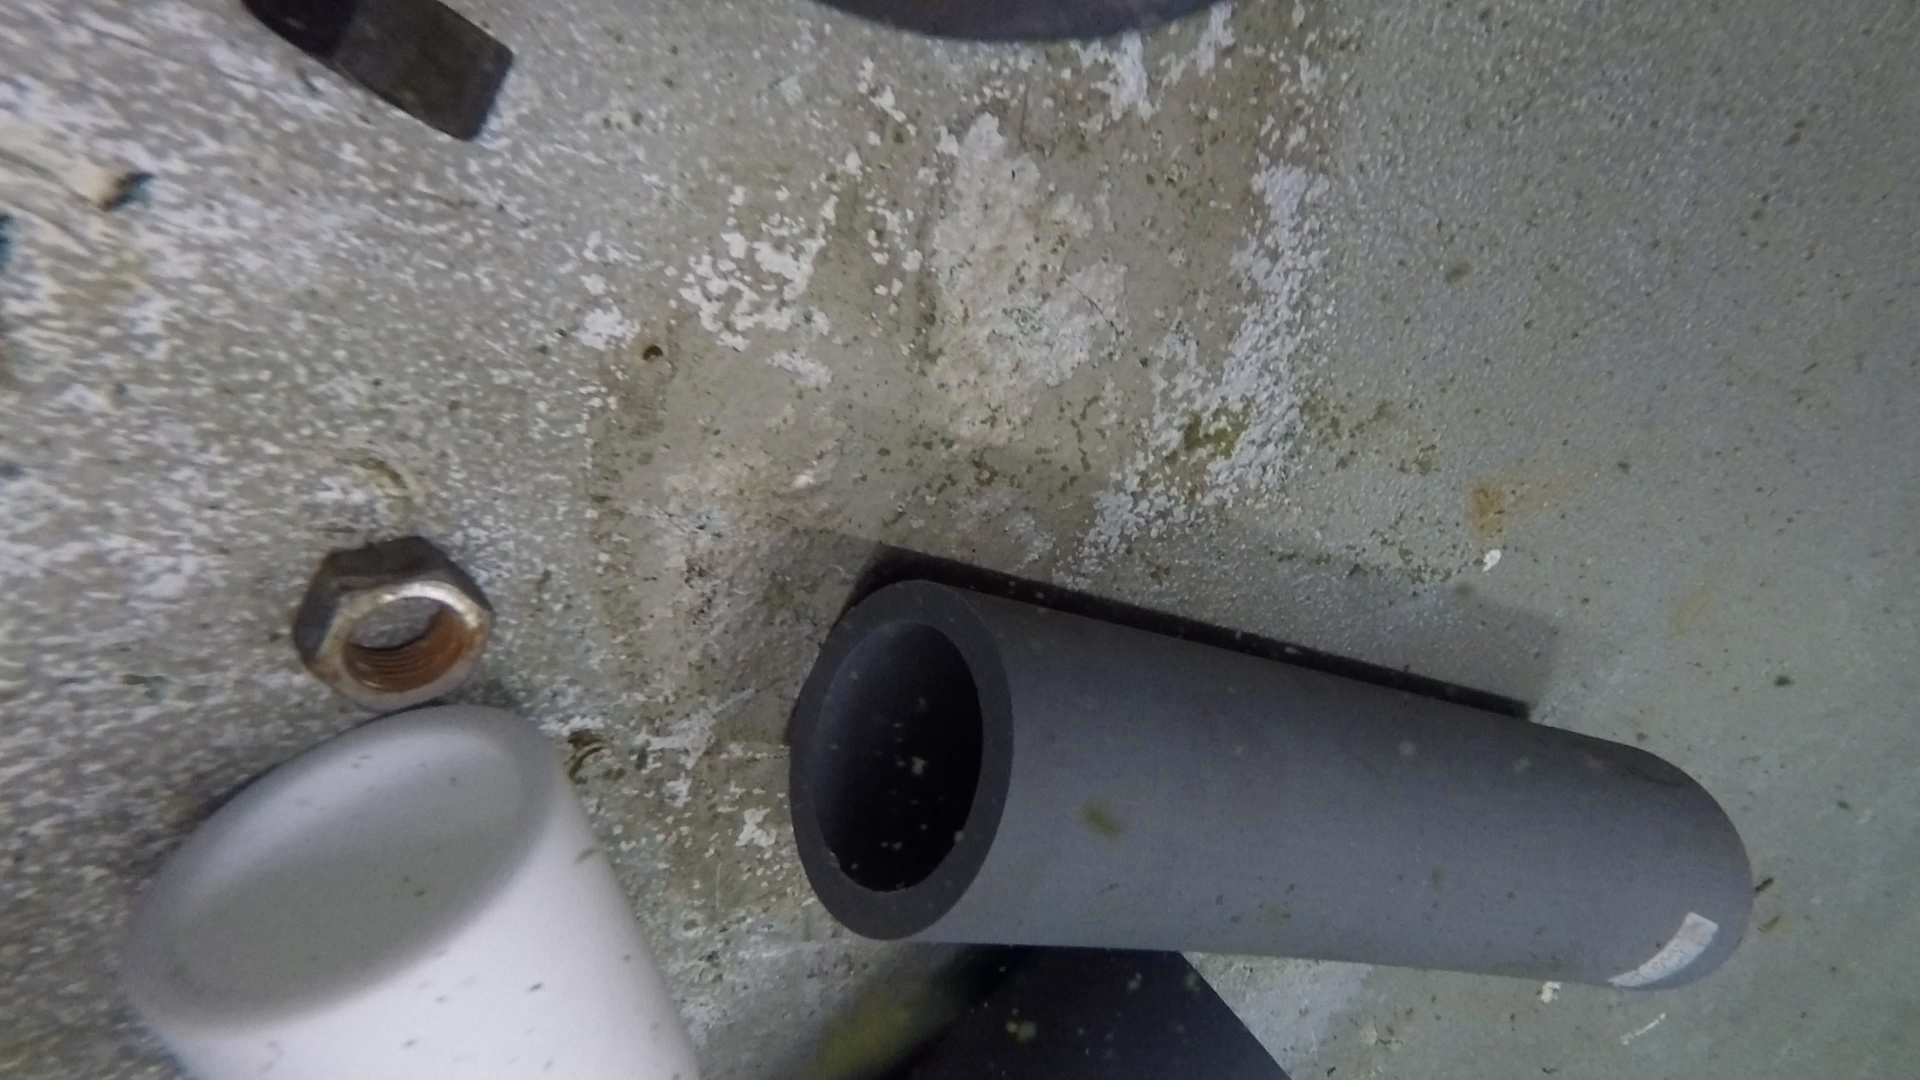nut: (244, 1, 516, 138), (293, 537, 498, 713)
pipe: (789, 578, 1754, 992), (125, 704, 702, 1080), (858, 948, 1304, 1080), (803, 1, 1226, 44)
